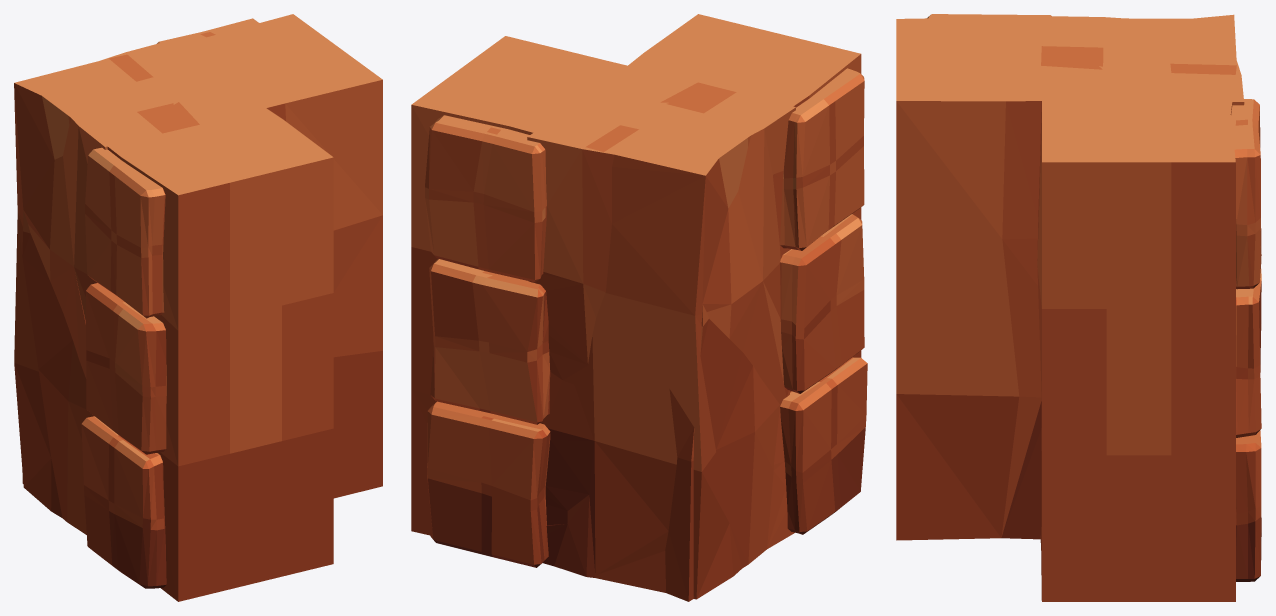
Rendered from SM_CLIFF_CORNER_01.fbx.
3 views of the same model, side by side, from view 1: azimuth 30°, elevation 25°; view 2: azimuth 150°, elevation 25°; view 3: azimuth 270°, elevation 25° (orthographic). The views are drawn at different scales.
Parts seen in each view (by area): view 1: CLIFF_CORNER_01; view 2: CLIFF_CORNER_01; view 3: CLIFF_CORNER_01.
Part boxes in pixels (x1,y1,x2,y2): CLIFF_CORNER_01: [14, 14, 382, 601]; CLIFF_CORNER_01: [411, 14, 867, 601]; CLIFF_CORNER_01: [896, 14, 1261, 601].
Size of the model in its own units: 3.01 by 3.01 by 4.
